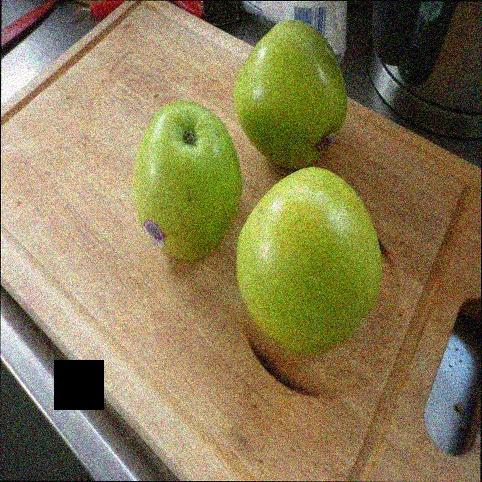green apple: (232, 167, 388, 364), (237, 17, 354, 175), (130, 98, 244, 257)
